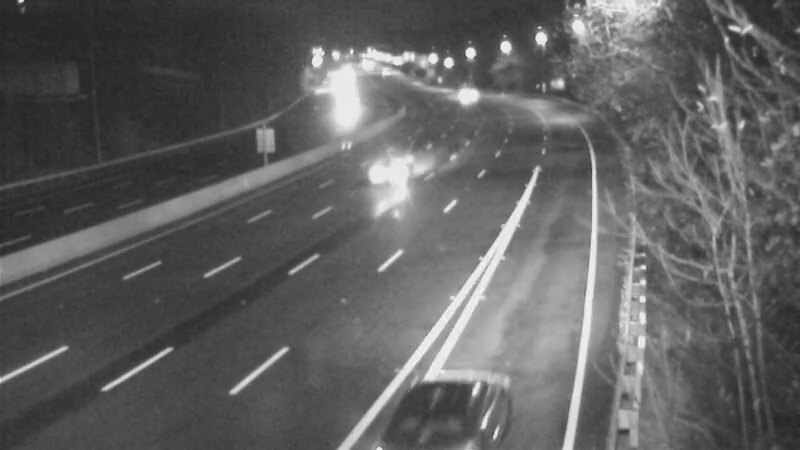vehicle: (389, 354, 499, 450), (346, 133, 426, 213), (442, 69, 492, 119), (316, 79, 366, 129)
